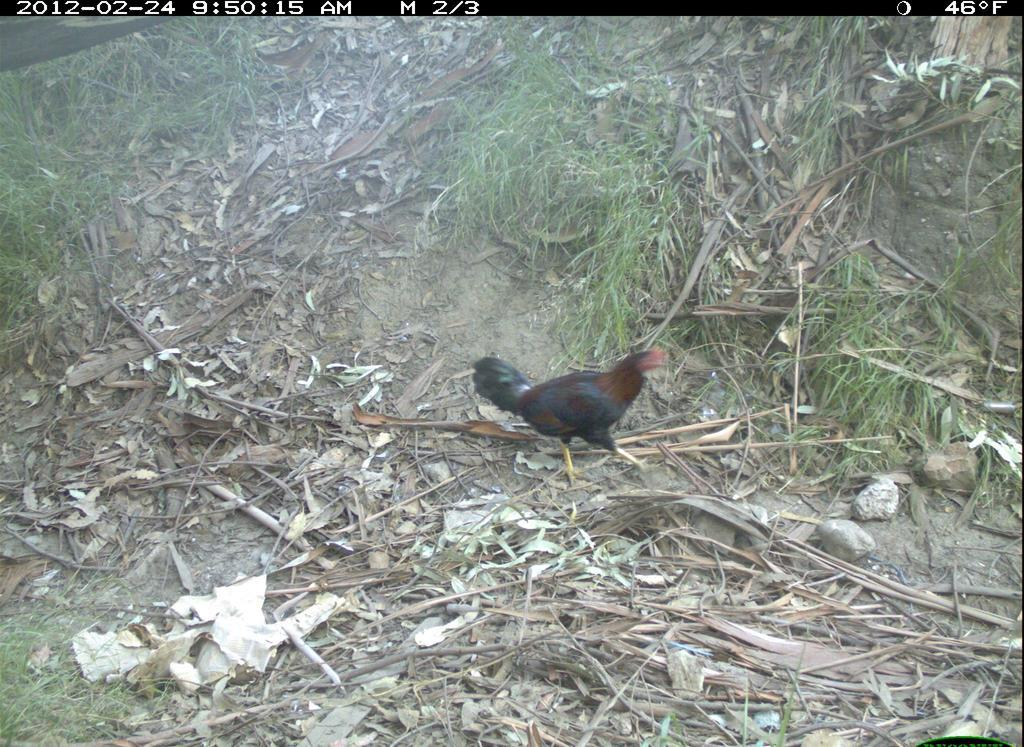bird: (468, 343, 675, 491)
